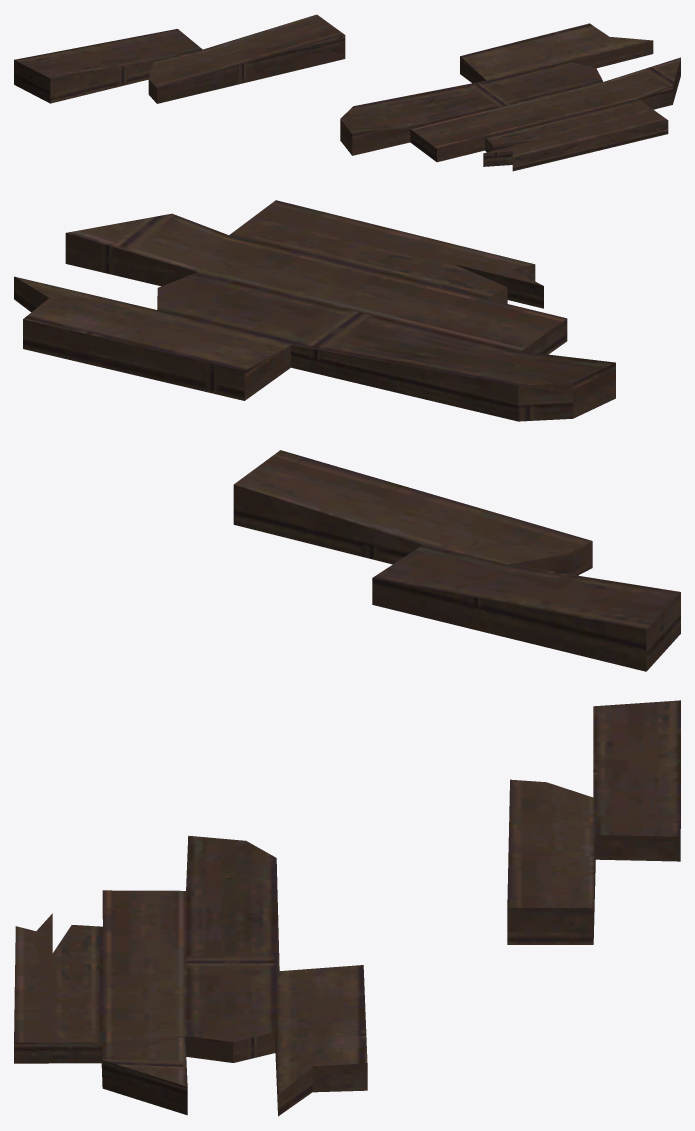
File: f_1272_floor_t4m.FBX
3 views of the same model, one above another, from view 1: azimuth 30°, elevation 25°; view 2: azimuth 150°, elevation 25°; view 3: azimuth 270°, elevation 25° (orthographic). The views are drawn at different scales.
Visible parts, largest first — view 1: f_1211_floor_diban01, f_1211_floor_diban02; view 2: f_1211_floor_diban01, f_1211_floor_diban02; view 3: f_1211_floor_diban01, f_1211_floor_diban02.
Boxes of the visible parts, x1,y1,x2,y2 form: f_1211_floor_diban01: (340,23,680,171); f_1211_floor_diban02: (14,14,345,103); f_1211_floor_diban01: (14,200,615,421); f_1211_floor_diban02: (233,450,680,671); f_1211_floor_diban01: (14,835,367,1116); f_1211_floor_diban02: (507,700,680,944).
Size of what is drawn, in the model's own units: 514 by 24.05 by 380.
